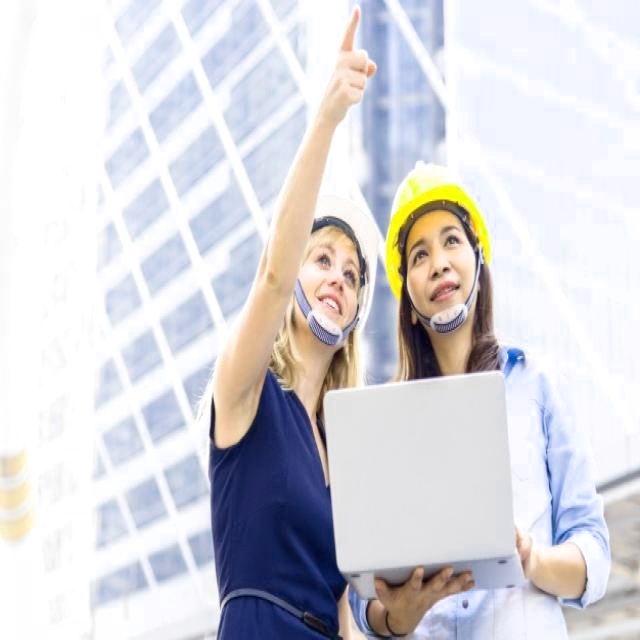Con_Casco: (385, 155, 486, 328)
